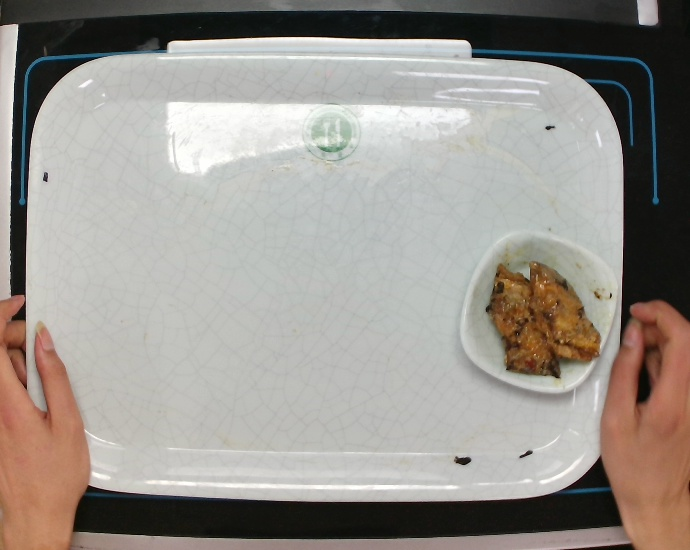JYsf-Si_Fang_Die: (452, 223, 622, 396)
